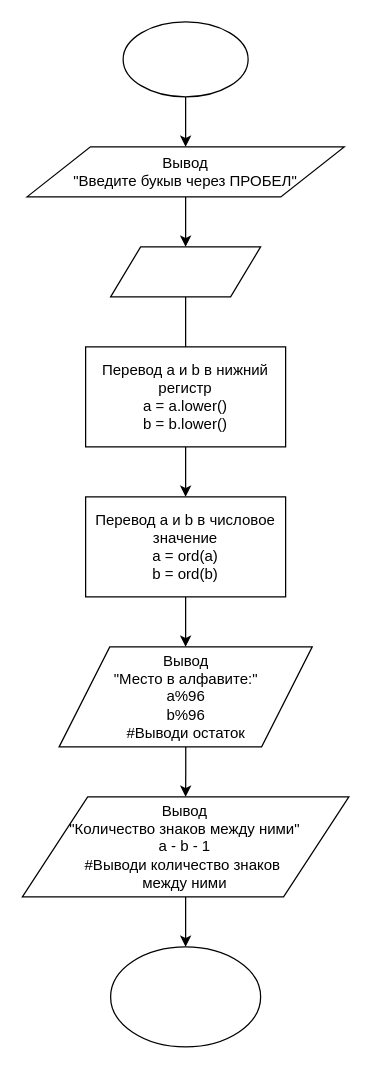
This 371x1069 diagram has some shape labels left out. Each missing label, with the centre of its shape:
"Ввод a , b" belongs at (x=185, y=271).
"Конец" belongs at (x=185, y=996).
"начало" belongs at (x=185, y=59).
